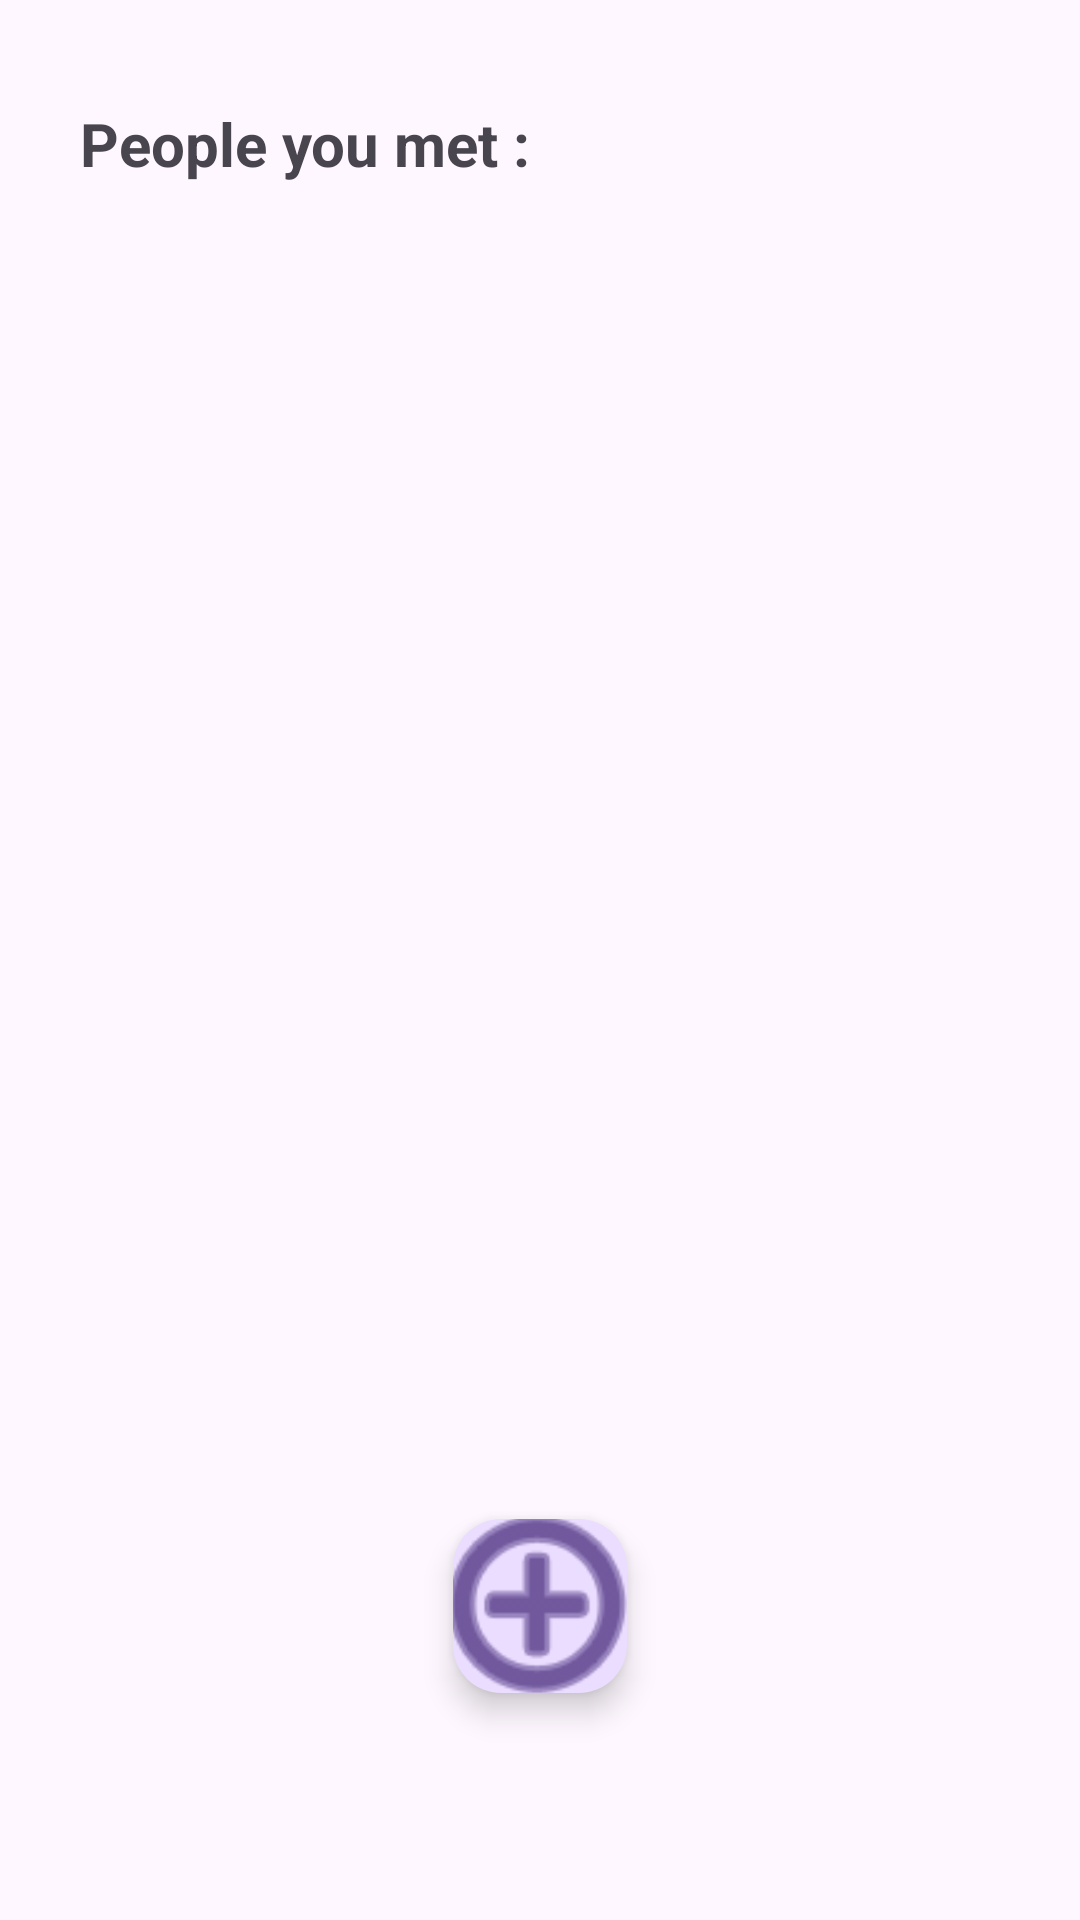

Screen size 1080w x 1920h. Icon name, then its box in pixels as (x1, y1, x2, y2):
add: (453, 1519, 627, 1693)
